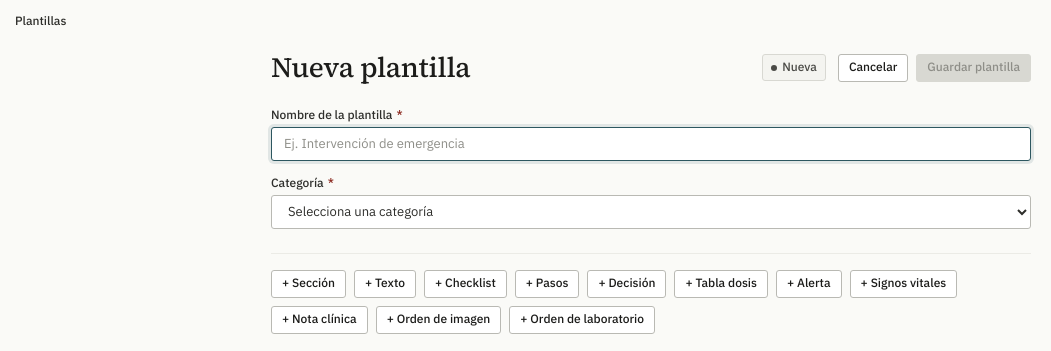
Test: TemplateEditorNew — category select › save button is enabled once a category is selected and name is filled
Type "Mi plantilla test" into the field with placeholder "Ej. Intervención de emergencia".
click(651, 144); type("Mi plantilla test")  # box top-left (271, 127), bottom-right (1031, 161)
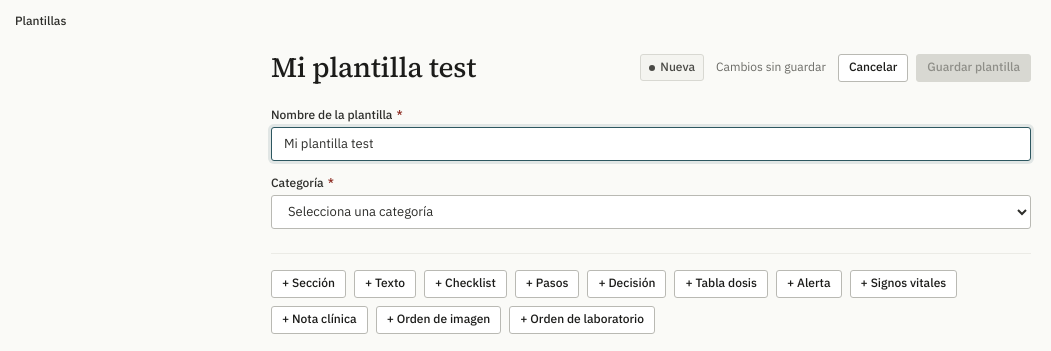
Select "Emergencias" in the dropdown named "Categoría" at (651, 212), box top-left (271, 195), bottom-right (1031, 229)
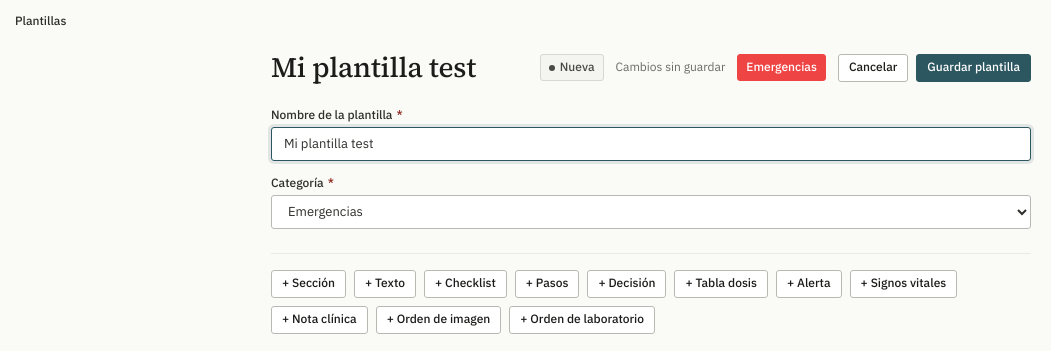
Result: the button "Guardar plantilla" is enabled at top-left (916, 54), bottom-right (1031, 82)
